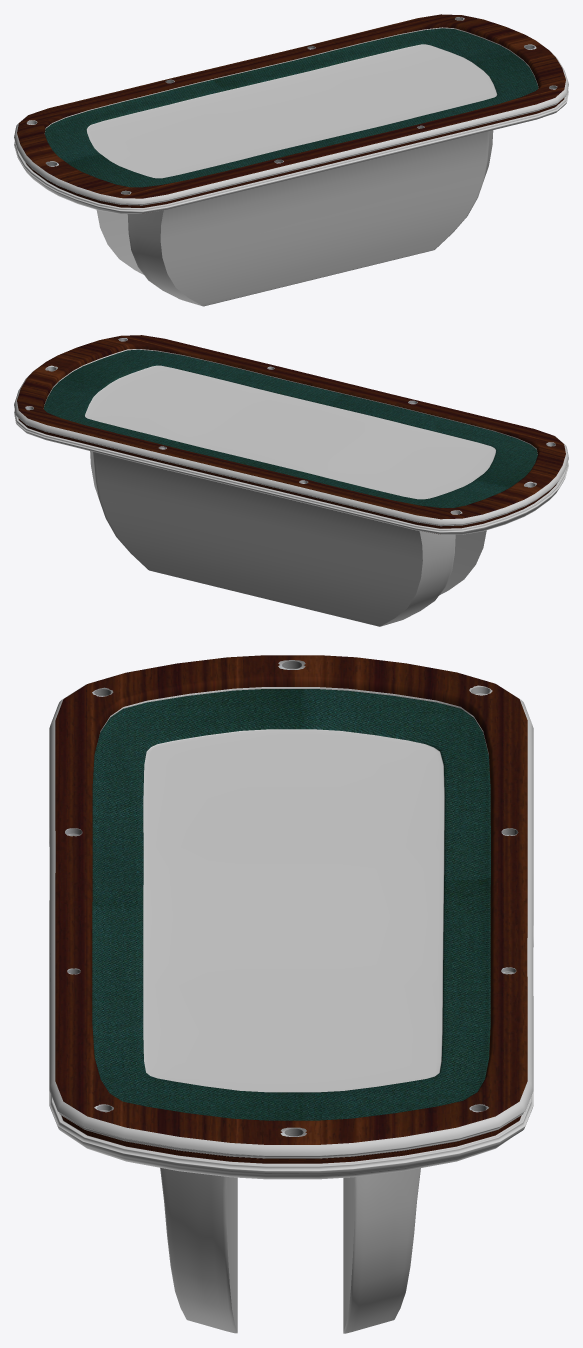
3 renders of one model, top to bottom at view 1: azimuth 30°, elevation 25°; view 2: azimuth 150°, elevation 25°; view 3: azimuth 270°, elevation 25°, orthographic. The views are drawn at different scales.
Visible parts, largest first — view 1: Table_Top_Dup, Table_Legs_UV; view 2: Table_Top_Dup, Table_Legs_UV; view 3: Table_Top_Dup, Table_Legs_UV.
Boxes of the visible parts, x1=… form: Table_Top_Dup: x1=14, y1=14, x2=568, y2=213; Table_Legs_UV: x1=96, y1=130, x2=493, y2=306; Table_Top_Dup: x1=14, y1=335, x2=568, y2=534; Table_Legs_UV: x1=90, y1=451, x2=486, y2=626; Table_Top_Dup: x1=49, y1=655, x2=533, y2=1179; Table_Legs_UV: x1=160, y1=1168, x2=420, y2=1333.
Size of the model in its own units: 4.99 by 1.45 by 2.07.
